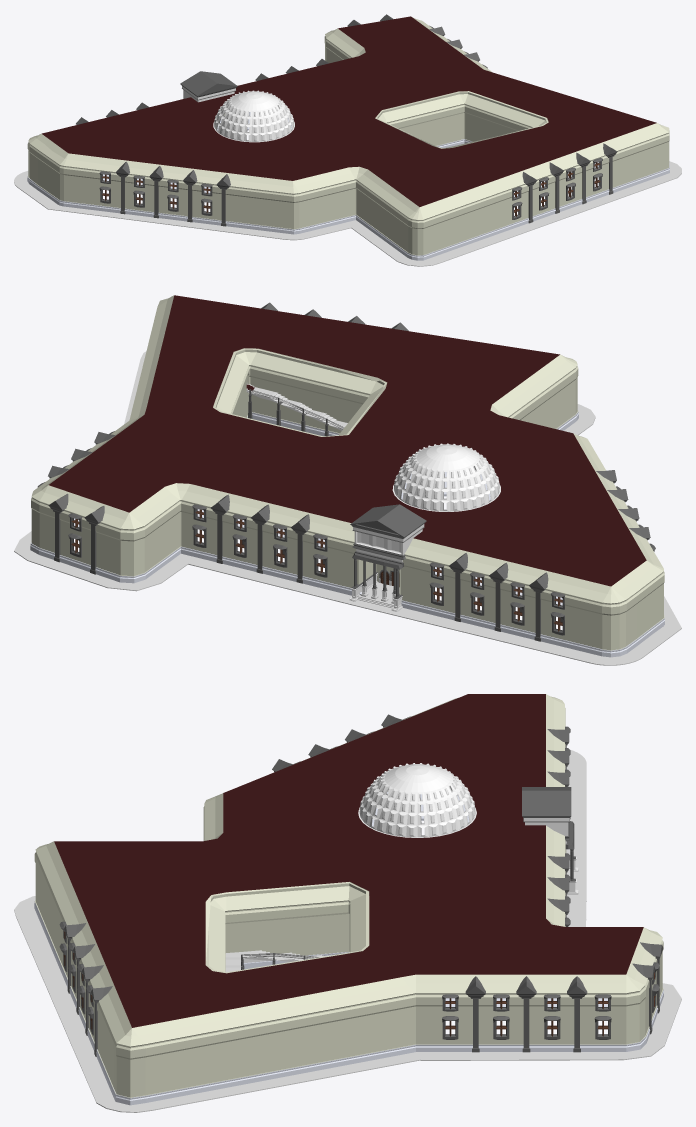
The model's file is biblio.glb.
3 renders of one model, top to bottom at view 1: azimuth 30°, elevation 25°; view 2: azimuth 150°, elevation 25°; view 3: azimuth 270°, elevation 25°, orthographic. The views are drawn at different scales.
Visible parts, largest first — view 1: pared.001, pared, piso, Sphere, acabado, ventanas, top_entrada, ven_sup; view 2: pared.001, pared, piso, acabado, Sphere, top_entrada, ventanas, ven_sup, columnas, escalones, escalones.001, entrada; view 3: pared.001, piso, pared, Sphere, acabado, top_entrada, ventanas, ven_sup, escalones.
Part boxes in pixels (bbox=[...]): pared.001: bbox=[27, 16, 669, 260]; pared: bbox=[375, 91, 548, 148]; piso: bbox=[14, 161, 681, 266]; Sphere: bbox=[213, 90, 294, 142]; acabado: bbox=[76, 14, 617, 226]; ventanas: bbox=[99, 173, 602, 219]; top_entrada: bbox=[180, 71, 237, 102]; ven_sup: bbox=[99, 25, 602, 200]; pared.001: bbox=[30, 295, 664, 657]; pared: bbox=[213, 348, 386, 436]; piso: bbox=[14, 351, 681, 665]; acabado: bbox=[48, 302, 650, 641]; Sphere: bbox=[392, 443, 500, 511]; top_entrada: bbox=[350, 504, 426, 569]; ventanas: bbox=[68, 524, 564, 635]; ven_sup: bbox=[37, 431, 655, 609]; columnas: bbox=[349, 558, 402, 611]; escalones: bbox=[247, 387, 347, 430]; escalones.001: bbox=[248, 389, 344, 436]; entrada: bbox=[358, 559, 400, 594]; pared.001: bbox=[34, 694, 663, 1105]; piso: bbox=[14, 749, 681, 1112]; pared: bbox=[206, 882, 369, 973]; Sphere: bbox=[358, 763, 476, 837]; acabado: bbox=[64, 714, 663, 1056]; top_entrada: bbox=[522, 787, 574, 849]; ventanas: bbox=[59, 754, 659, 1039]; ven_sup: bbox=[59, 716, 659, 1011]; escalones: bbox=[225, 950, 325, 972].
Bounding box in the file's own units: 468 × 72.25 × 361.
